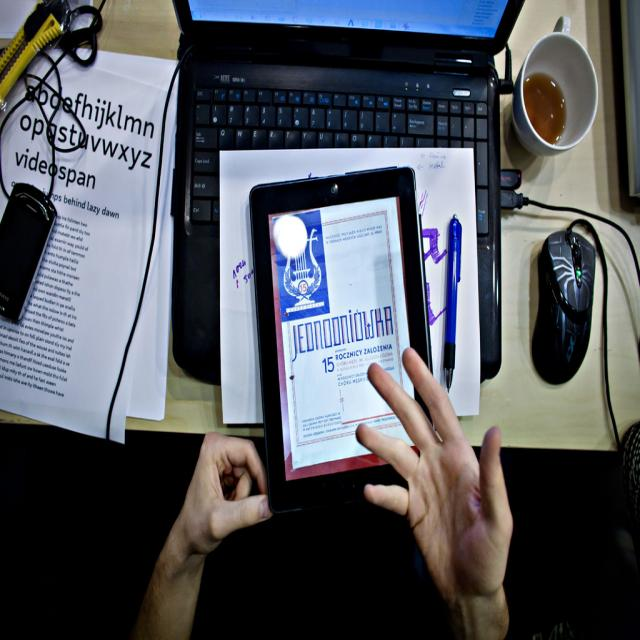Coffee: (524, 74, 566, 145)
Tea: (520, 75, 566, 148)
